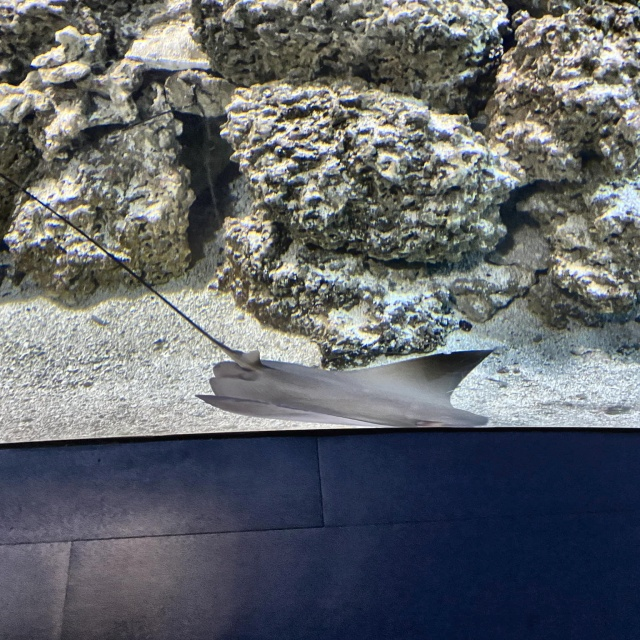stingray: (192, 350, 492, 432)
